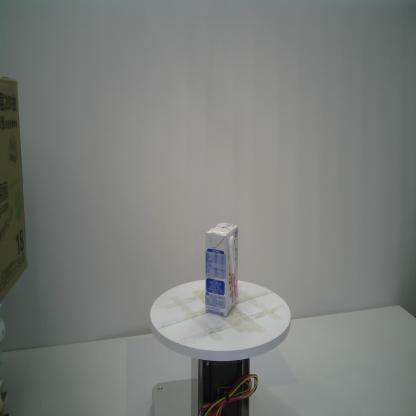Milk: (203, 220, 239, 318)
